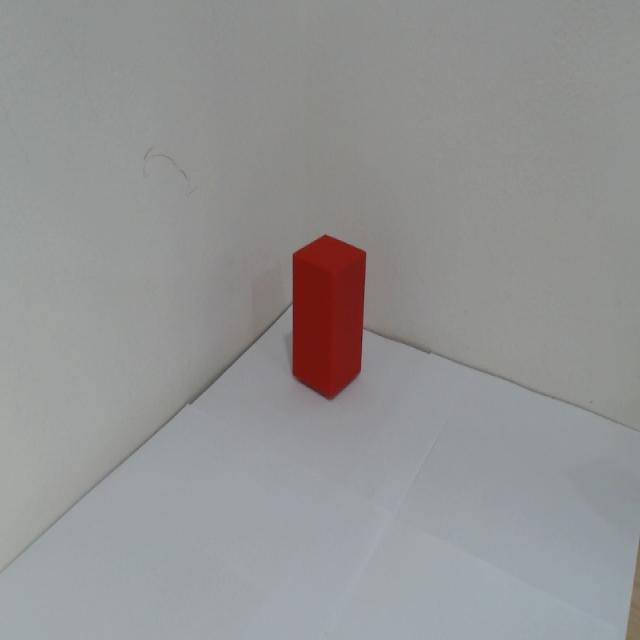cube: (287, 230, 369, 403)
